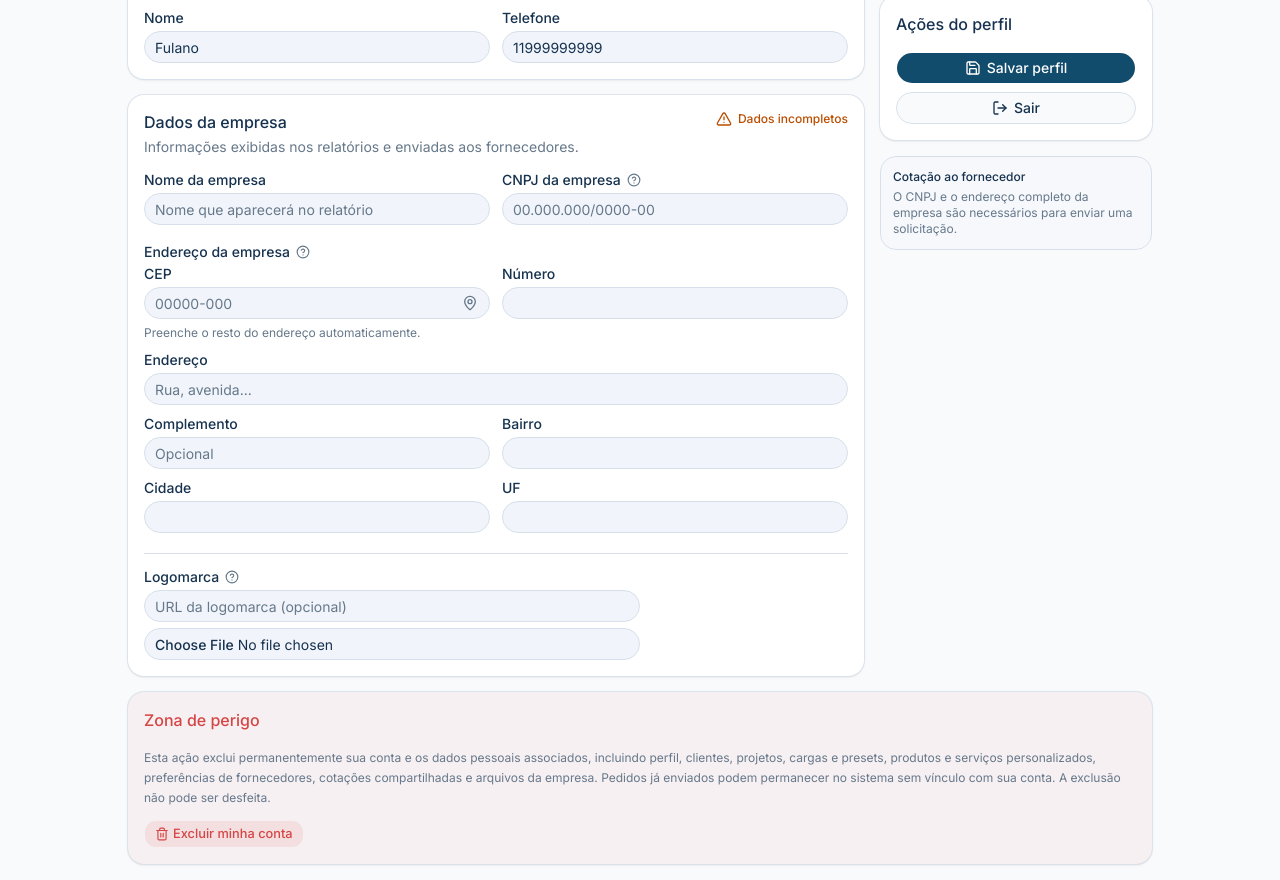
Test: ProfileTab: delete account flow › requires typing EXCLUIR before the confirm button is enabled
(page scrolled)
Click the button "Excluir minha conta".
click(224, 834)  # box [144, 820, 304, 848]
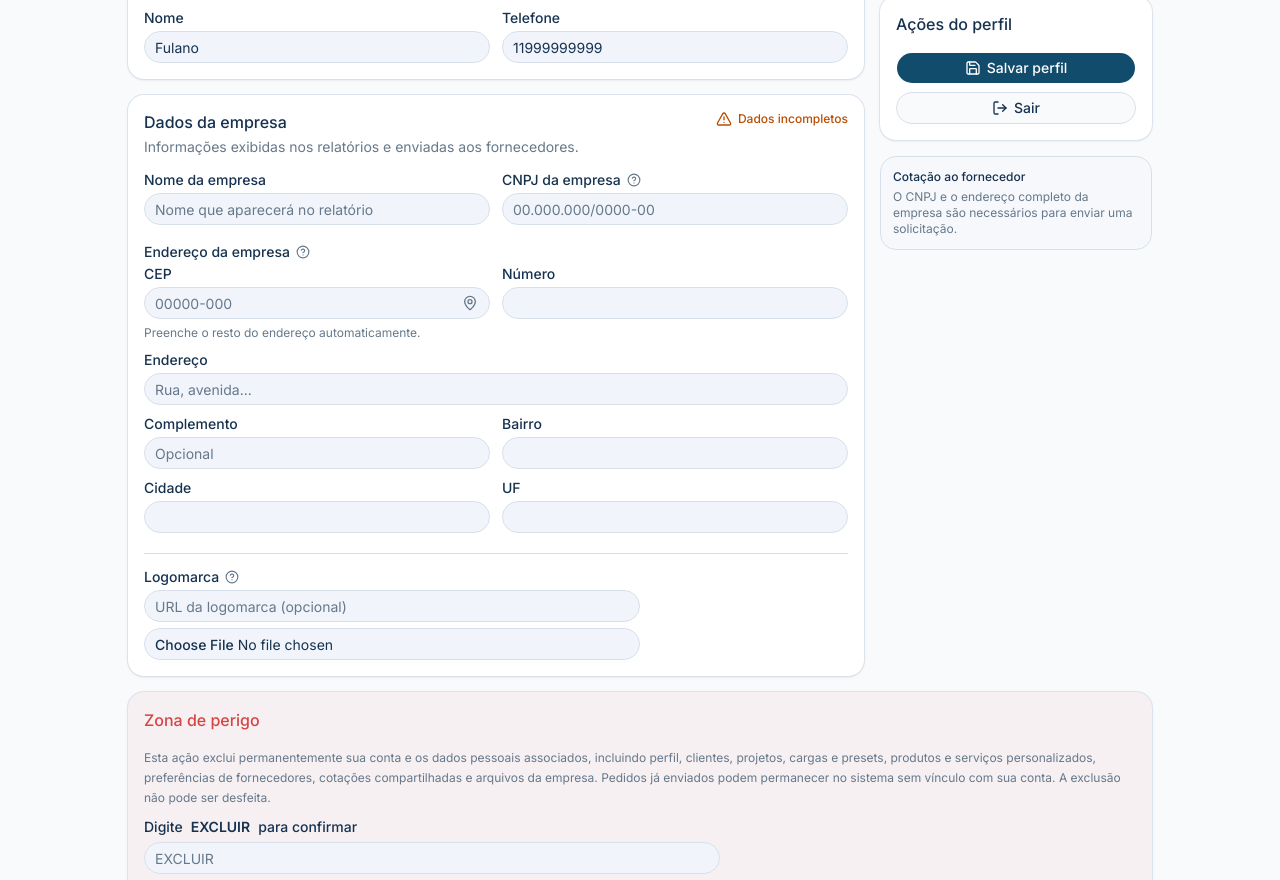
Type "excluir" into the field labelled "Digite EXCLUIR para confirmar".
click(432, 858); type("excluir")  # box [144, 842, 720, 874]
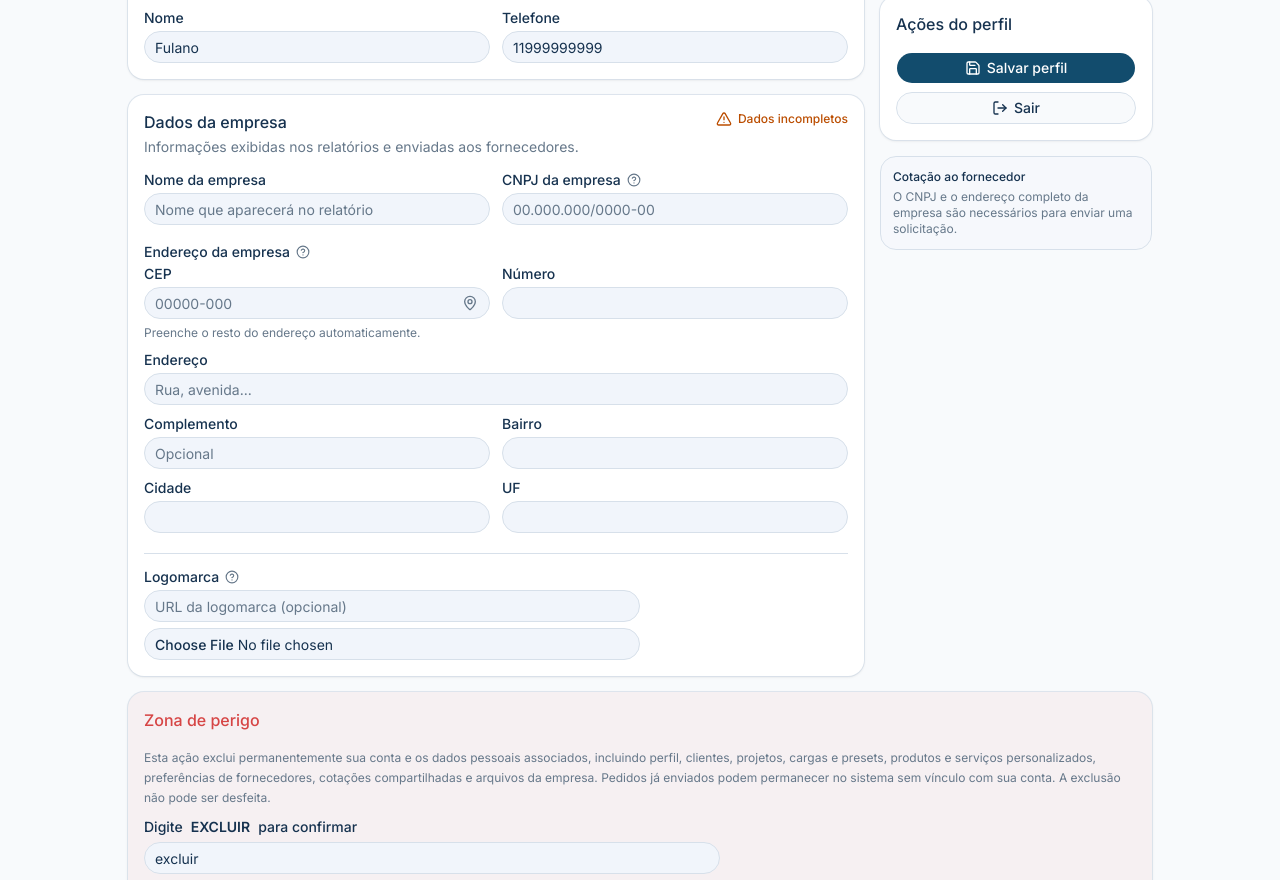
Replace the text in the field labelled "Digite EXCLUIR para confirmar" with "EXCLUIR" at [432, 858], box [144, 842, 720, 874]
(page scrolled)
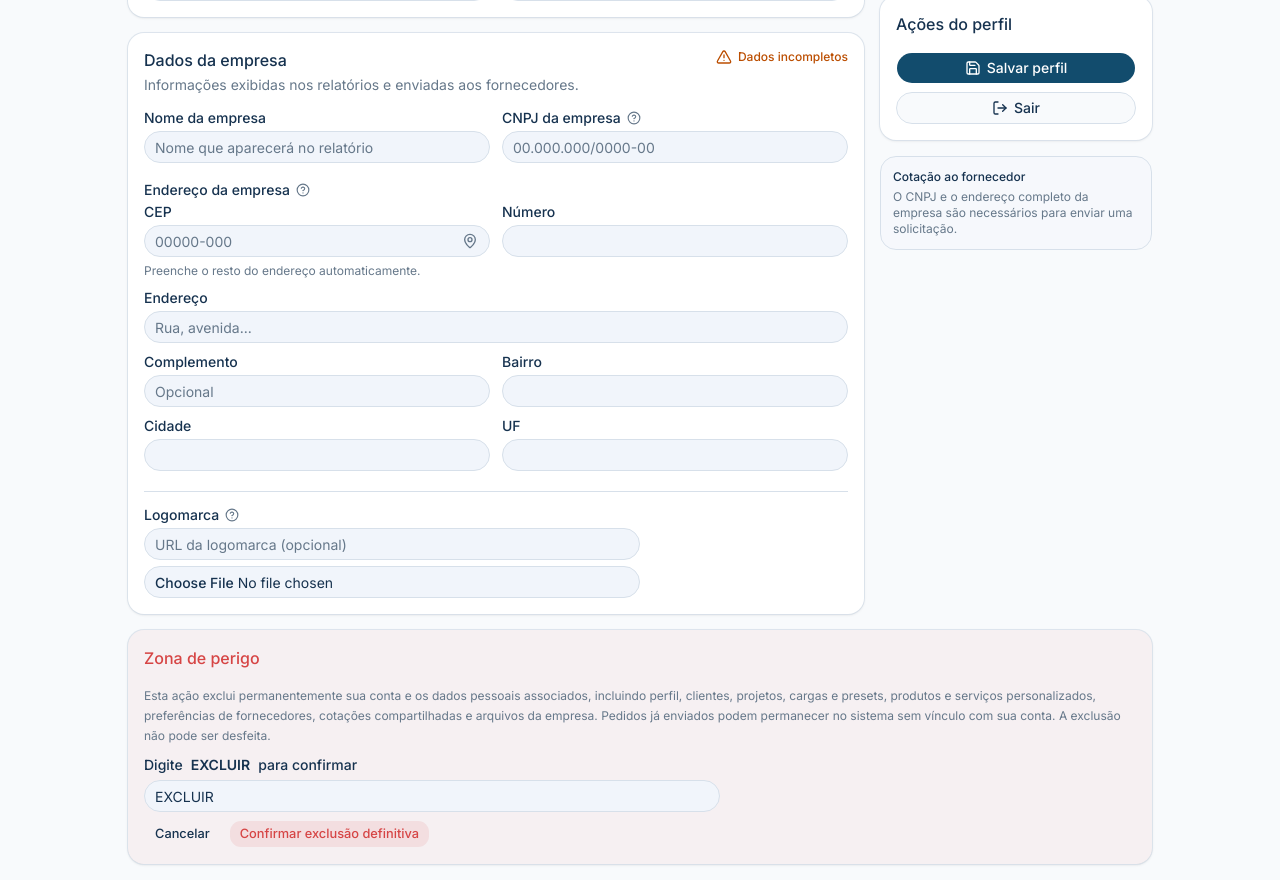
Check: the button "Confirmar exclusão definitiva" is enabled, box [229, 820, 430, 848]
